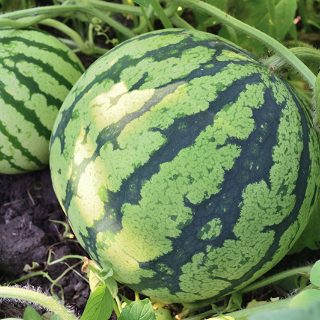dua_hau: (43, 24, 313, 308)
